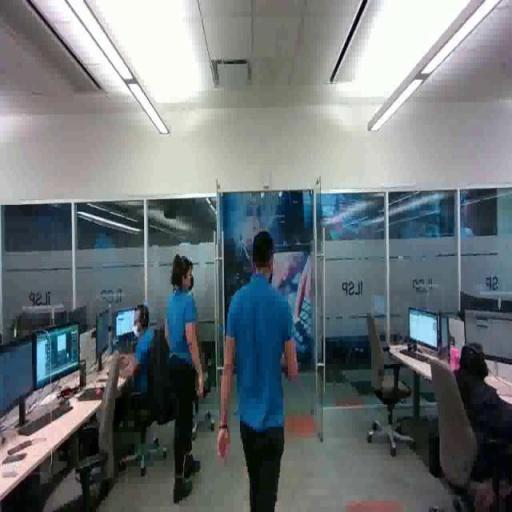person: (217, 227, 301, 512), (433, 334, 512, 482), (164, 252, 209, 508), (113, 295, 177, 413)
